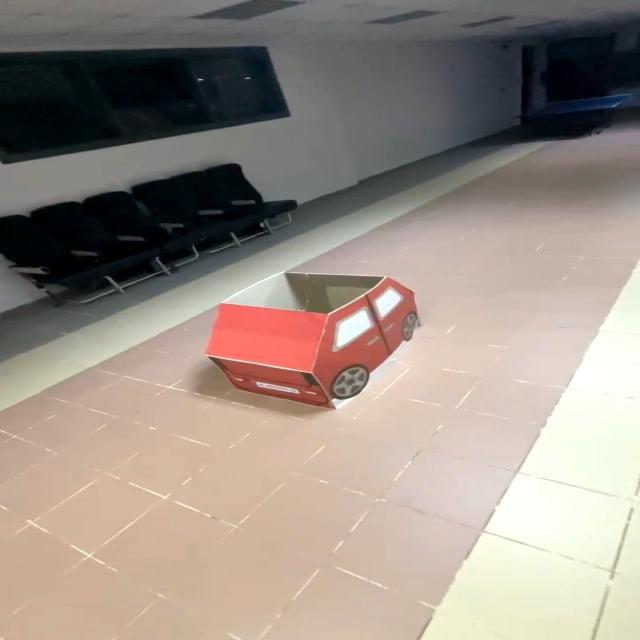red_car: (176, 247, 453, 429)
